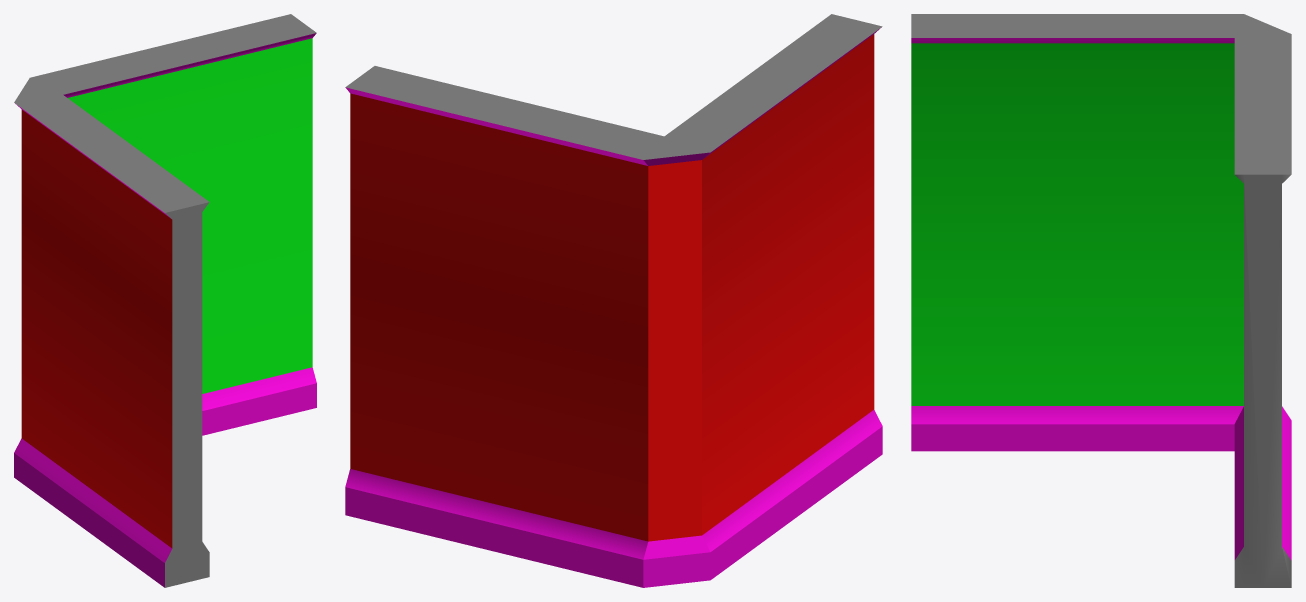
The model's file is ModularInnerWallFinal.FBX.
3 renders of one model, left to right at view 1: azimuth 30°, elevation 25°; view 2: azimuth 150°, elevation 25°; view 3: azimuth 270°, elevation 25°, orthographic. The views are drawn at different scales.
Parts seen in each view (by area): view 1: ModularWall010; view 2: ModularWall010; view 3: ModularWall010.
Boxes of the visible parts, <box> form: ModularWall010: <box>14,14,316,587</box>; ModularWall010: <box>345,14,882,587</box>; ModularWall010: <box>911,14,1291,587</box>.
Size of the model in its own units: 100 by 120 by 100.
